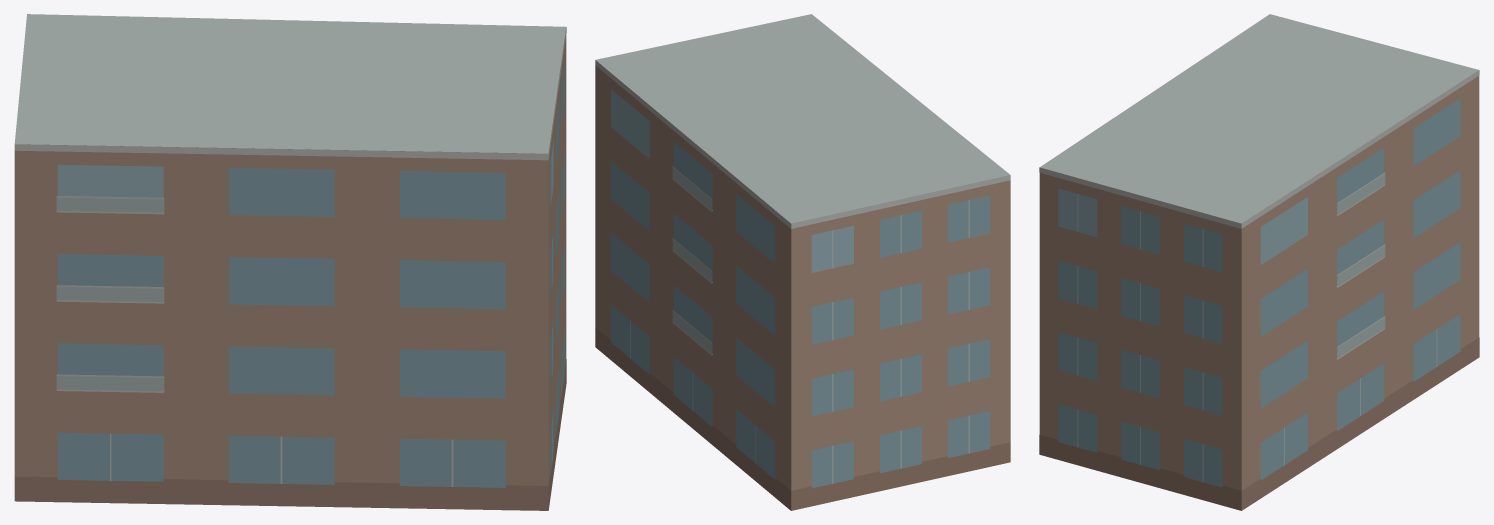
File: survey-upis-32628574.glb
3 views of the same model, side by side, from view 1: azimuth 30°, elevation 25°; view 2: azimuth 150°, elevation 25°; view 3: azimuth 270°, elevation 25° (orthographic). The views are drawn at different scales.
Parts seen in each view (by area): view 1: survey-upis-32628574.tmp; view 2: survey-upis-32628574.tmp; view 3: survey-upis-32628574.tmp.
Boxes of the visible parts, x1,y1,x2,y2 form: survey-upis-32628574.tmp: (14,14,566,510); survey-upis-32628574.tmp: (595,14,1010,510); survey-upis-32628574.tmp: (1039,14,1479,510).
Bounding box in the file's own units: 20.66 × 13.2 × 18.33.
